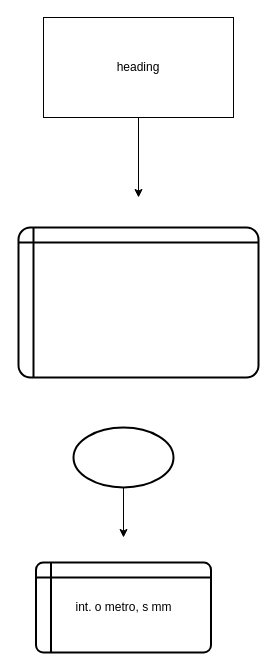
Image size: 276x671. Some labels were removed from this diagram. Each missing label, with the box of its shape:
1_ Entrada do valor em metros 2_mm X metro : 1000 3_ Mostrar o valor de mm: (17, 226, 259, 378)
Start: (72, 426, 174, 488)
